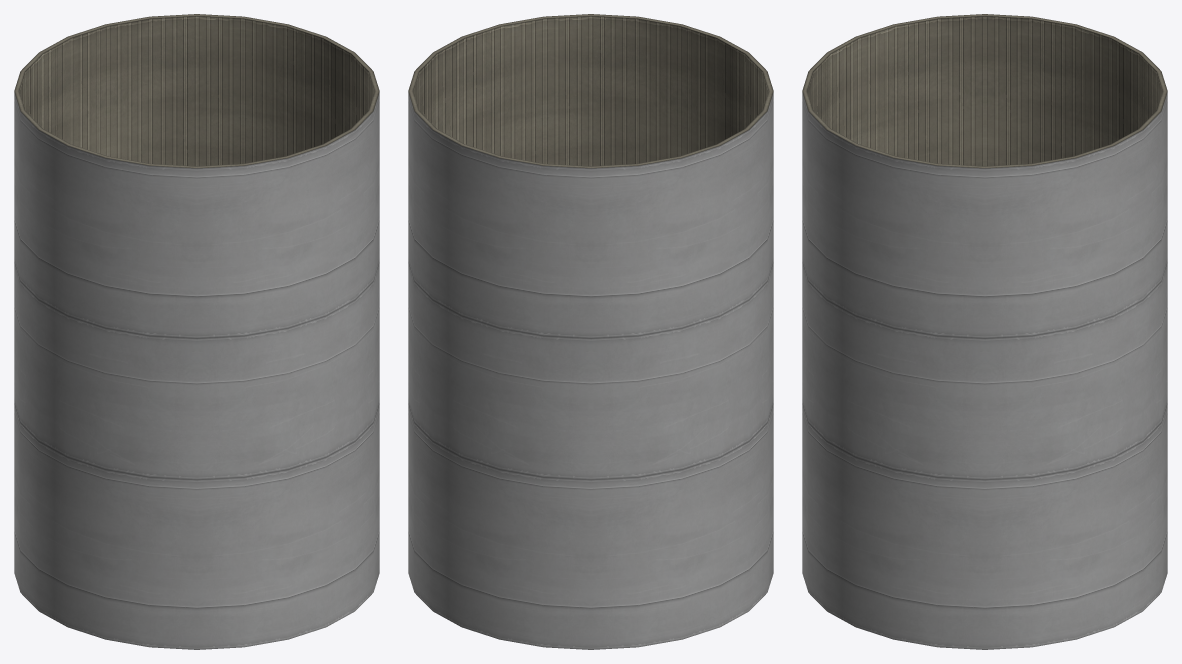
Rendered from nk43_fairing_s1p5.obj.
3 renders of one model, left to right at view 1: azimuth 30°, elevation 25°; view 2: azimuth 150°, elevation 25°; view 3: azimuth 270°, elevation 25°, orthographic.
Parts seen in each view (by area): view 1: fairing3; view 2: fairing3; view 3: fairing3.
Boxes of the visible parts, left/top/right/bottom form: fairing3: left=14, top=14, right=379, bottom=649; fairing3: left=408, top=14, right=773, bottom=649; fairing3: left=802, top=14, right=1167, bottom=649.
Size of the model in its own units: 1.88 by 2.73 by 1.88.
Materials: 1 (1 with a texture image).
